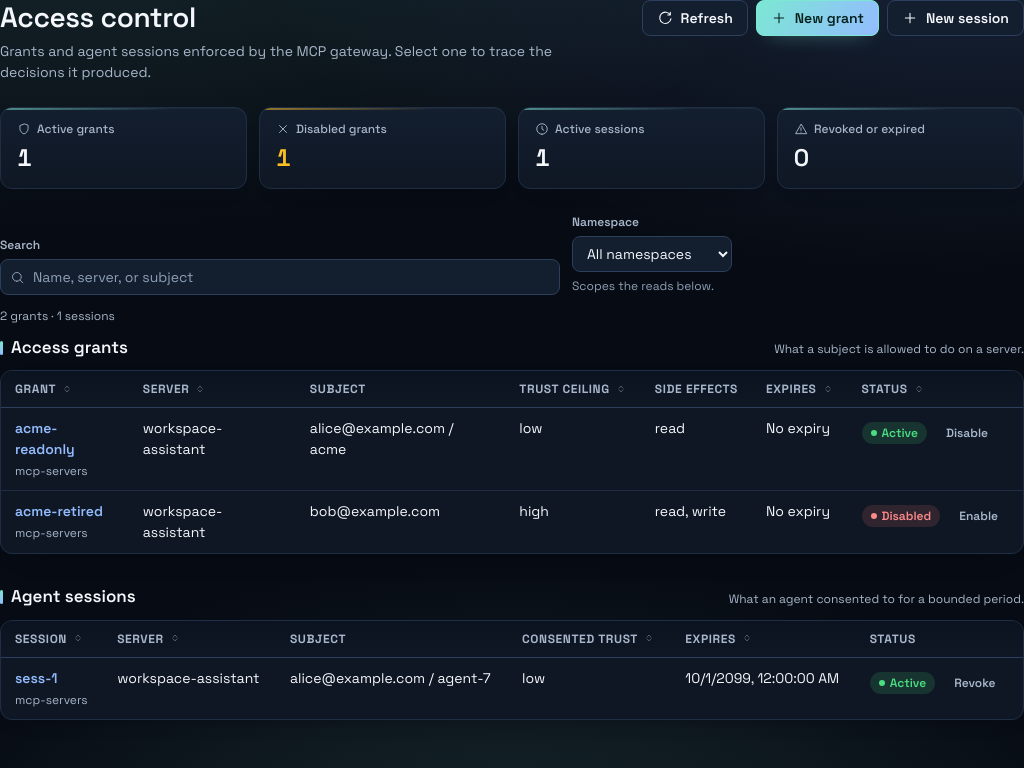
Test: AccessWorkspace drill-down › reports an analytics outage as an outage
This screenshot has width=1024, height=768.
expect the table with test id "grants-table" is shown: met, box [1, 371, 1023, 553]
What coordinates should you click on to do the following:
click the button with test id "grant-drilldown" showing "acme-readonly"
I would click on:
 (65, 439)
Its box is [15, 418, 115, 460].
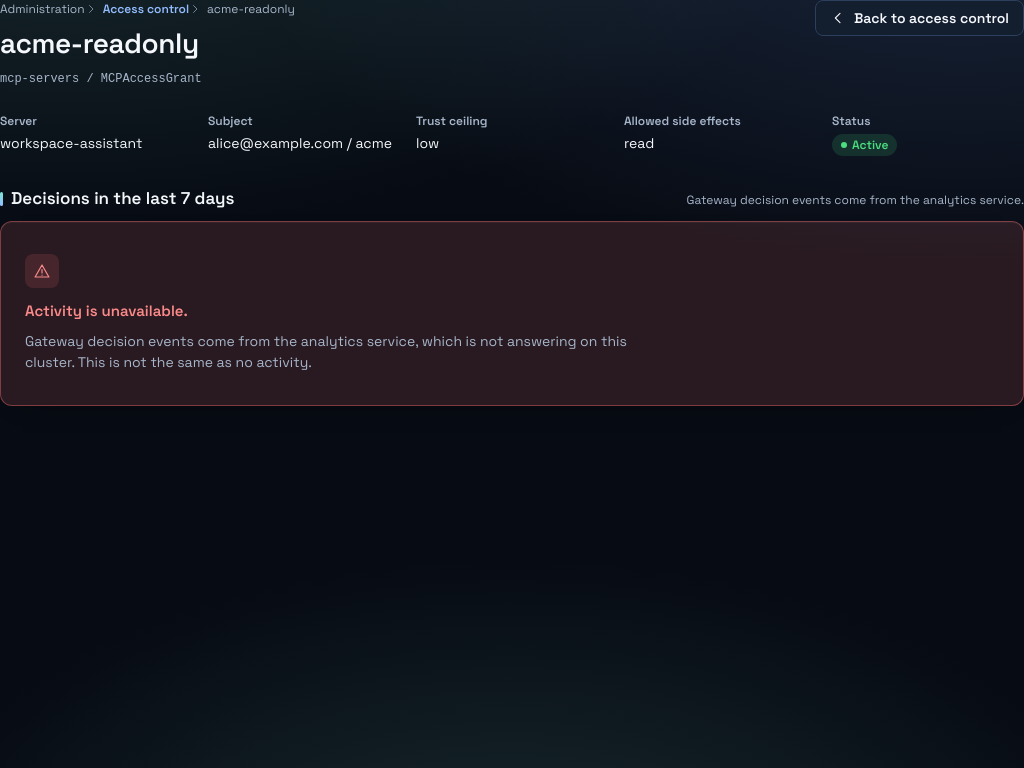
expect the message with test id "access-activity-error" shows "Activity is unavailable.": met, box [25, 301, 188, 320]
expect the message with test id "access-activity-error" shows "analytics service": met, box [25, 332, 627, 371]
